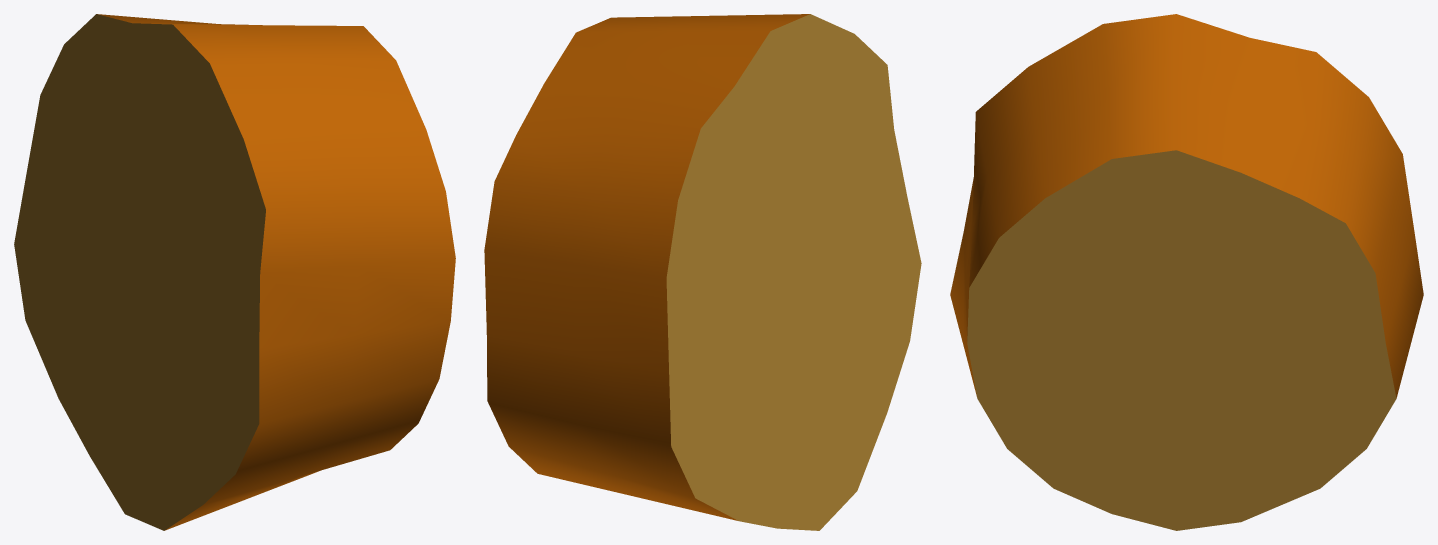
Rendered from mesh_CarrotSlice_Stage08.fbx.
3 views of the same model, side by side, from view 1: azimuth 30°, elevation 25°; view 2: azimuth 150°, elevation 25°; view 3: azimuth 270°, elevation 25° (orthographic). The views are drawn at different scales.
Visible parts, largest first — view 1: mesh_CarrotSlice_Stage08; view 2: mesh_CarrotSlice_Stage08; view 3: mesh_CarrotSlice_Stage08.
Part boxes in pixels (bbox=[...]): mesh_CarrotSlice_Stage08: bbox=[14, 14, 455, 530]; mesh_CarrotSlice_Stage08: bbox=[484, 14, 921, 530]; mesh_CarrotSlice_Stage08: bbox=[950, 14, 1423, 530].
Size of the model in its own units: 0.0208 by 0.0399 by 0.0371.
